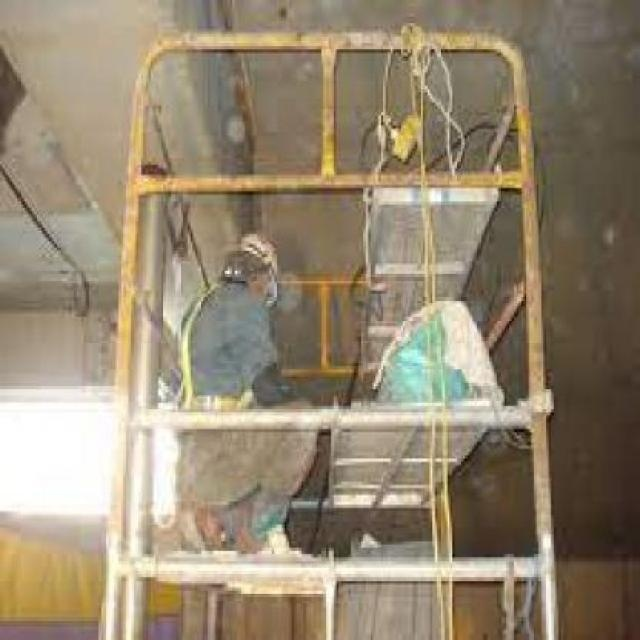Arnes_seguridad: (174, 281, 257, 417)
